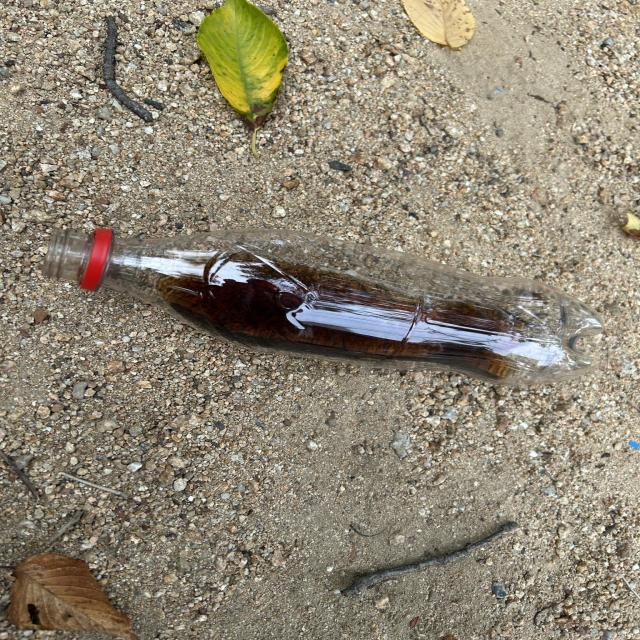low: (44, 229, 602, 384)
